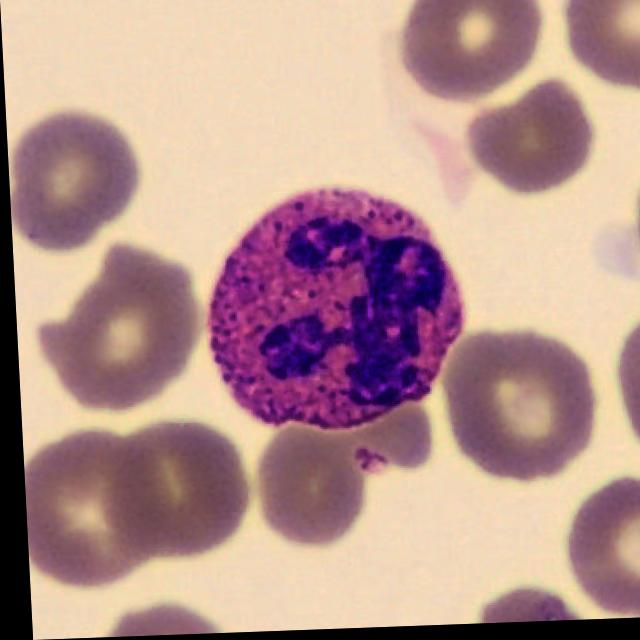Neutrofilo segmentado: (204, 192, 458, 435)
